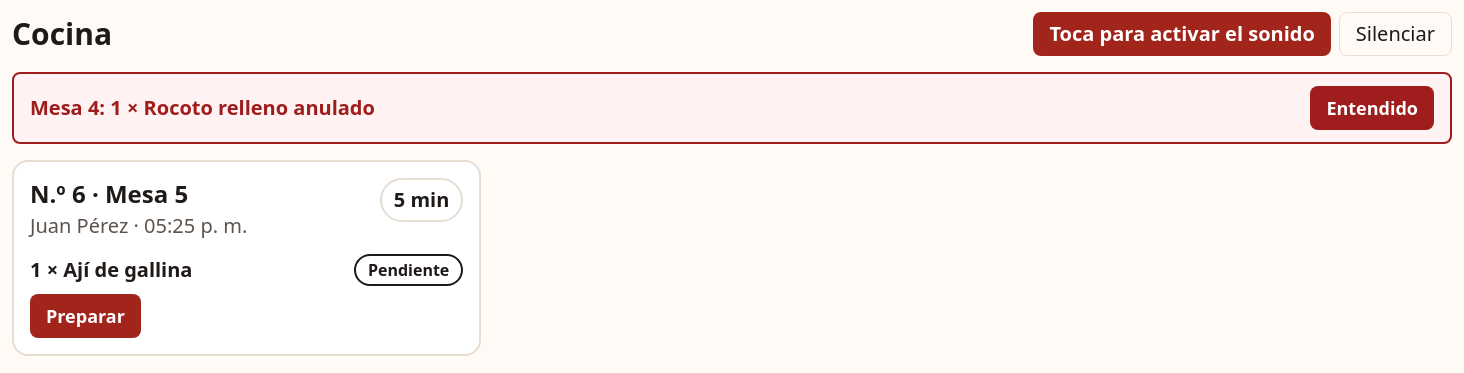
Test case: Feature 004 — pantalla de cocina (/cocina) › [004] AC-5.5: una anulación aparece arriba con sonido hasta tocar "Entendido"
Expected: the message shows "Mesa 4: 1 × Rocoto relleno anulado", x1=12 y1=72 x2=1452 y2=144
Click the button "Entendido".
click(1372, 108)  # box x1=1310 y1=86 x2=1434 y2=130
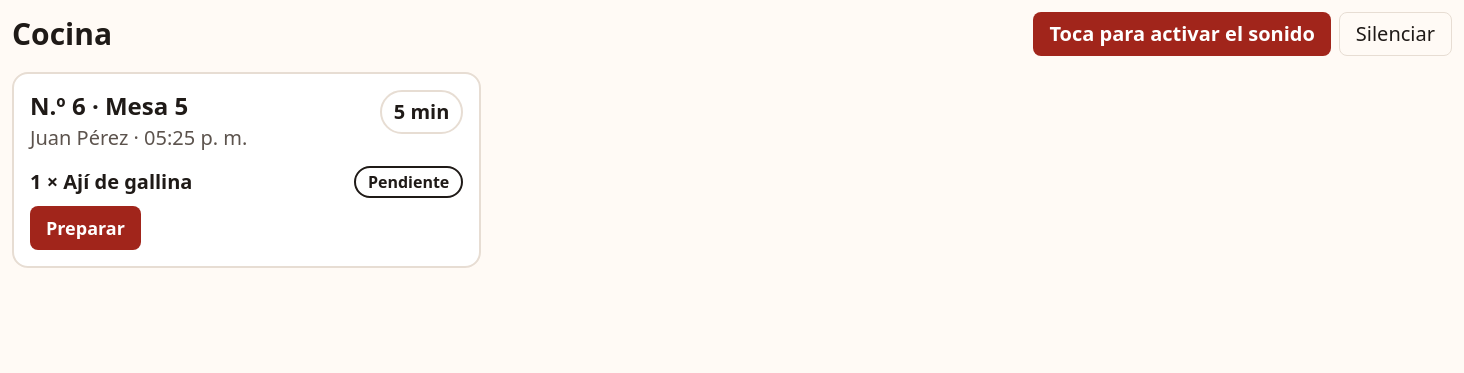
Result: the message "Mesa 4: 1 × Rocoto relleno anulado Entendido" is gone
